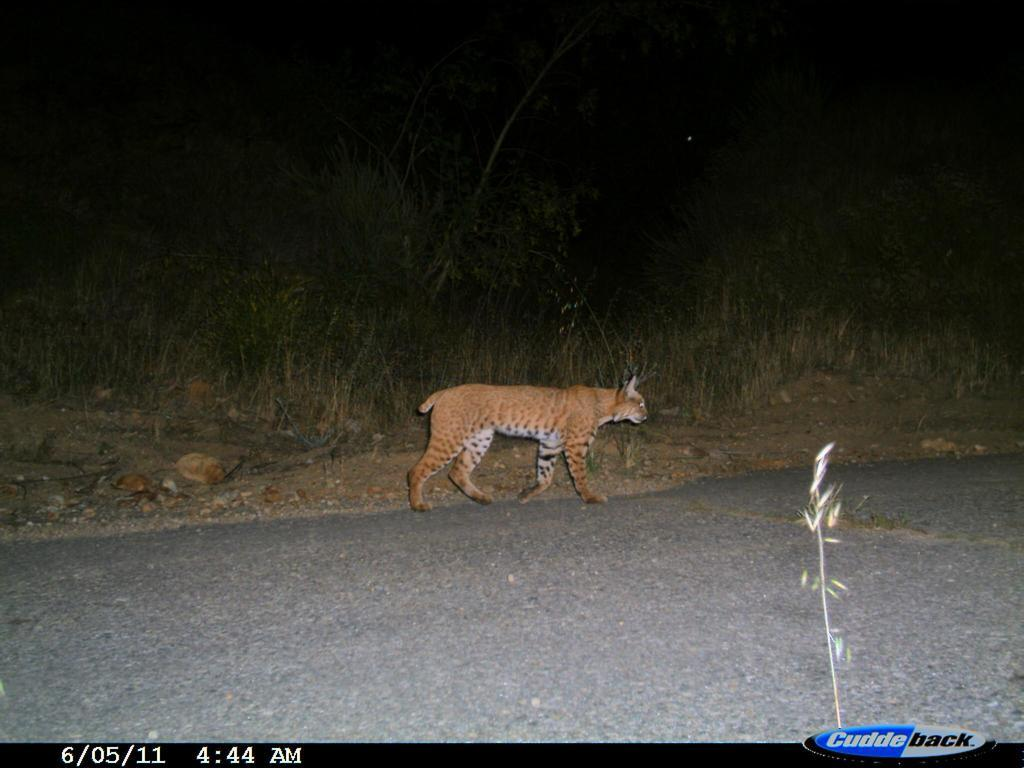bobcat: (402, 377, 656, 518)
